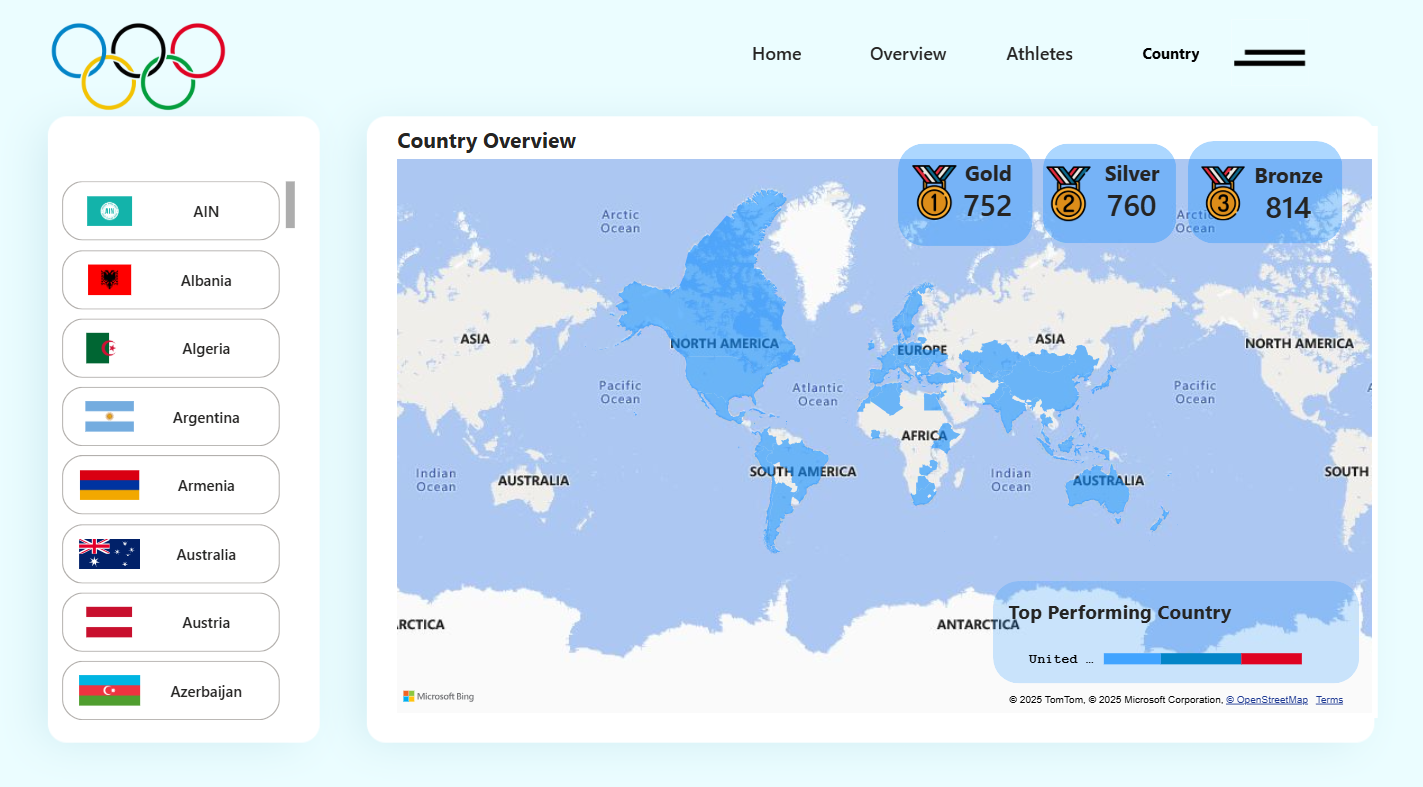

Layout of this report page (visuals, bound fields, positions):
{"tool":"powerbi","page":{"name":"Country","canvas":[1280,720],"ordinal":3},"visuals":[{"type":"filledMap","title":"Country Overview","fields":{"Category":["Medalist.country","Athletes.country"]},"box":[355,125,877.5,527.5],"z":0},{"type":"shape","box":[890.6,530,326.2,91.2],"z":1000},{"type":"shape","box":[1063.8,137.5,137.5,91.2],"z":2000},{"type":"shape","box":[806.2,140,120,91.2],"z":3000},{"type":"barChart","title":"Top Performing Country","fields":{"Y":["olympics_meaures.total_medals"],"Category":["Medalist.country"],"Series":["Medalist.medal_type"]},"box":[900,545,308.8,82.5],"z":4000},{"type":"card","title":"Gold","fields":{"Values":["olympics_meaures.Total_Gold"]},"box":[838.8,153.8,96.2,60],"z":5000},{"type":"shape","box":[935,140,118.8,88.8],"z":6000},{"type":"card","title":"Silver","fields":{"Values":["olympics_meaures.Total_Silver"]},"box":[946.2,153.8,136.2,60],"z":7000},{"type":"card","title":"Bronze","fields":{"Values":["olympics_meaures.Total_Bronze"]},"box":[1098.8,156.2,110,58.8],"z":8000},{"type":"image","box":[806.2,155,65,58.8],"z":9000},{"type":"image","box":[926.2,156.2,62.5,58.8],"z":10000},{"type":"image","box":[1063.8,156.2,62.5,57.5],"z":11000},{"type":"advancedSlicerVisual","fields":{"Values":["Medalist.country"]},"box":[56.2,168.8,217.5,497.5],"z":12000},{"type":"actionButton","box":[1103.5,29.8,68.3,58.3],"z":13000},{"type":"image","box":[17.5,6.2,225,128.8],"z":14000},{"type":"pageNavigator","box":[644.2,19.9,459.3,78.2],"z":15000}]}

Visuals, with their boxes on the page's 1280x720 design canvas (x1, y1, x2, y2). These are canvas units, not pixel positions in the 1423x787 screenshot, which may show the page scaled, cropped or inside an application window:
"Country Overview" filledMap: 355, 125, 1232, 652
shape: 891, 530, 1217, 621
shape: 1064, 138, 1201, 229
shape: 806, 140, 926, 231
"Top Performing Country" barChart: 900, 545, 1209, 628
"Gold" card: 839, 154, 935, 214
shape: 935, 140, 1054, 229
"Silver" card: 946, 154, 1082, 214
"Bronze" card: 1099, 156, 1209, 215
image: 806, 155, 871, 214
image: 926, 156, 989, 215
image: 1064, 156, 1126, 214
advancedSlicerVisual - Medalist.country: 56, 169, 274, 666
actionButton: 1104, 30, 1172, 88
image: 18, 6, 242, 135
pageNavigator: 644, 20, 1104, 98
